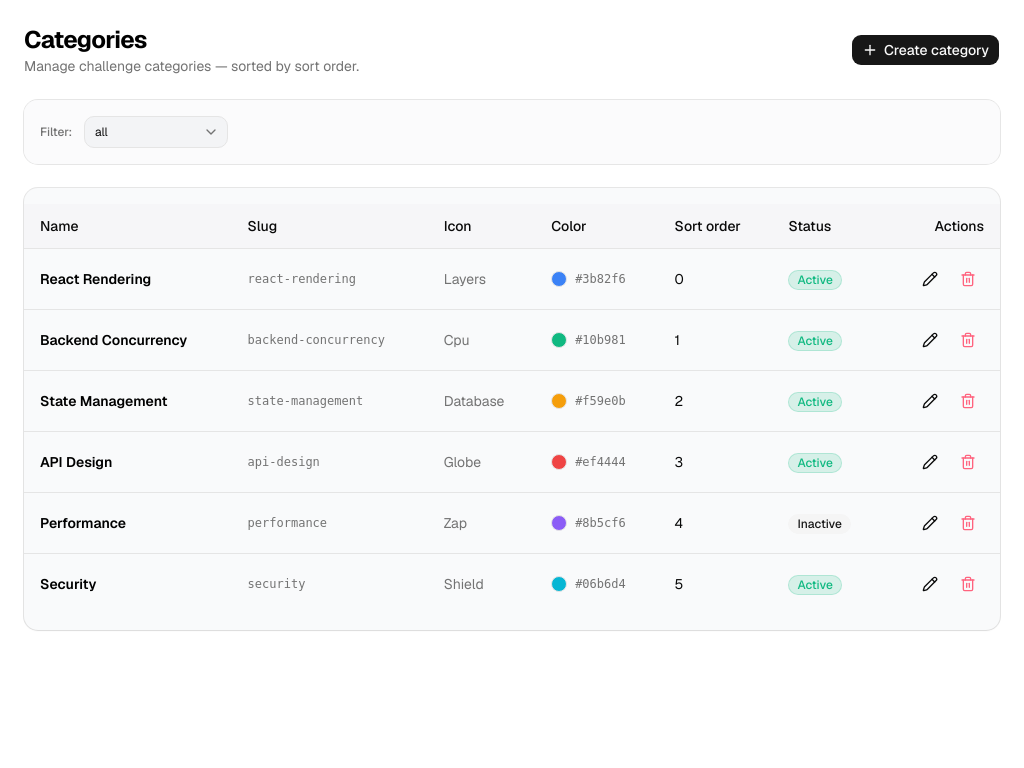
CategoryManagement › filters by isActive toggle
Expected: the text "Performance" is shown, x1=24 y1=492 x2=232 y2=554
Click the dropdown named "Filter by status" at [156, 132], box x1=84 y1=116 x2=228 y2=148
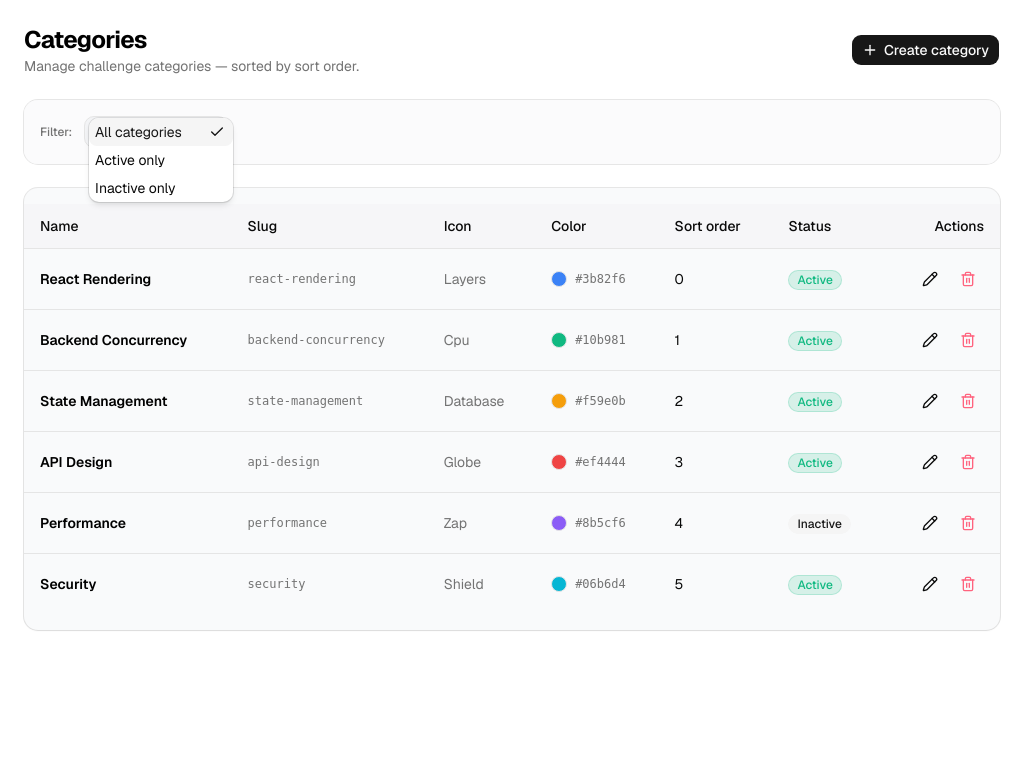
Click the option "Active only" at [130, 160], box x1=95 y1=151 x2=165 y2=169
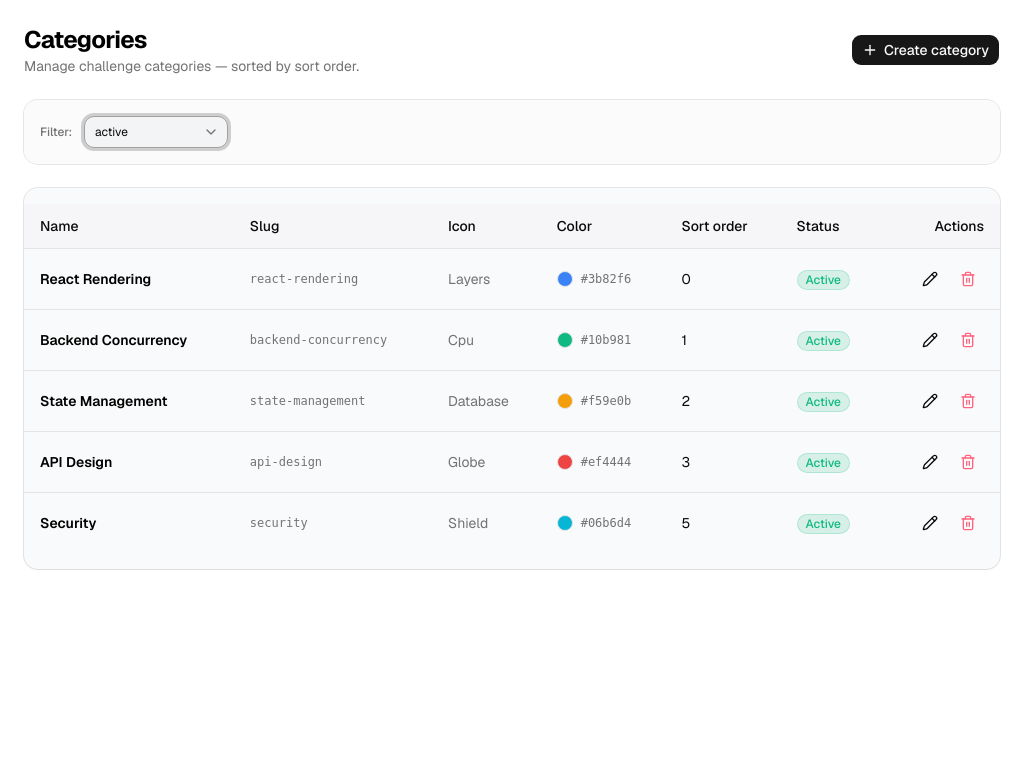
Expected: the text "React Rendering" is shown, x1=24 y1=248 x2=234 y2=310
Expected: the text "Performance" is gone
Click the dropdown named "Filter by status" at [156, 132], box x1=84 y1=116 x2=228 y2=148
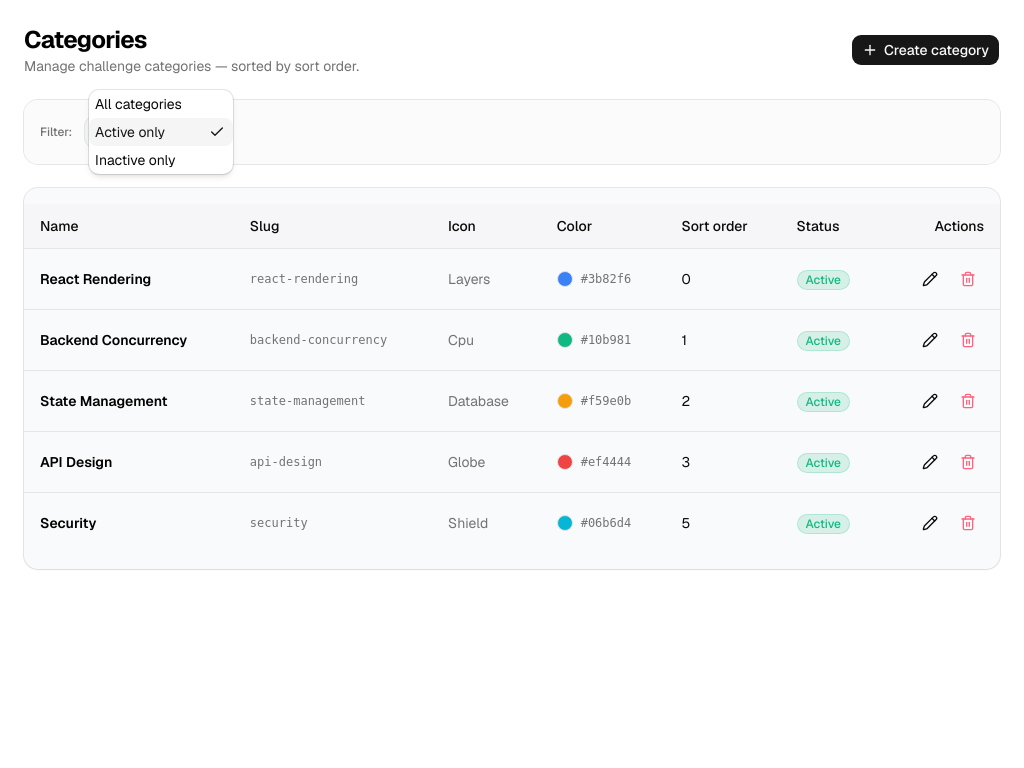
Click the option "Inactive only" at [135, 160], box x1=95 y1=151 x2=176 y2=169
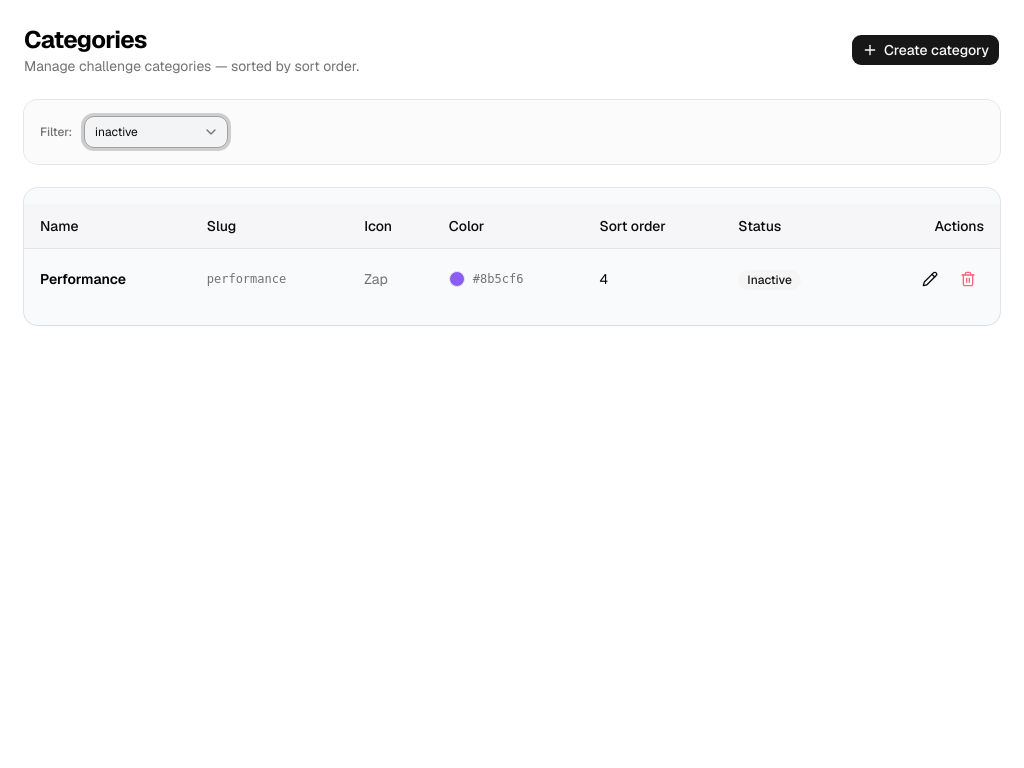
Expected: the text "Performance" is shown, x1=24 y1=248 x2=191 y2=309
Expected: the text "React Rendering" is gone
